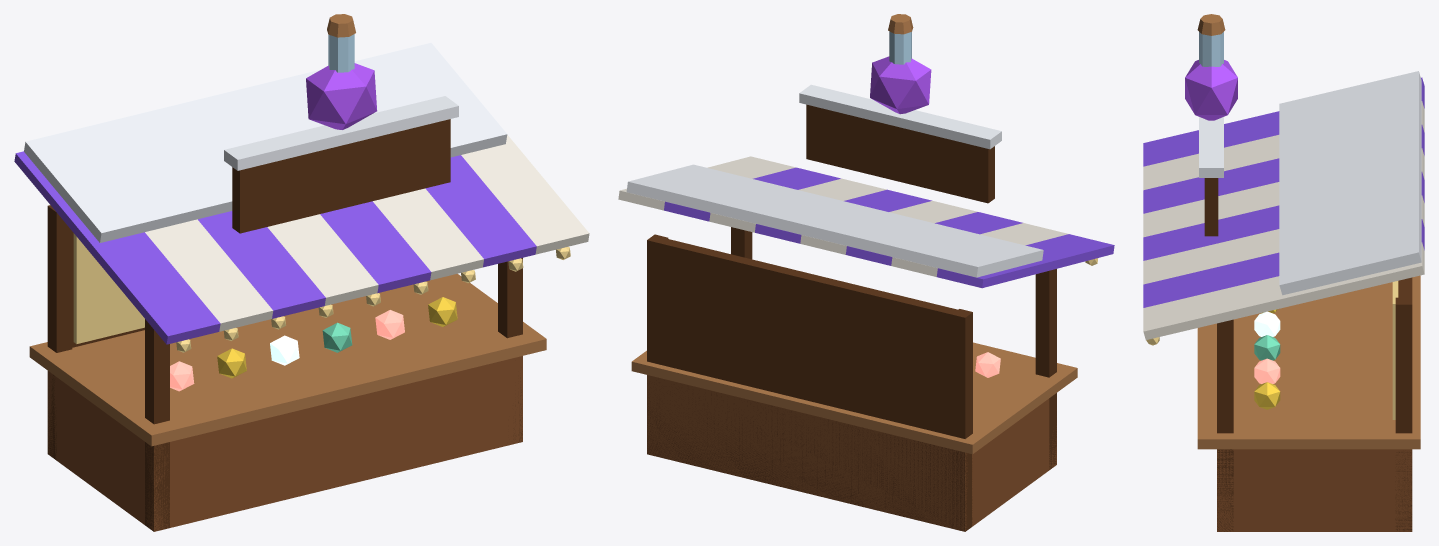
Rendered from StallPotion.fbx.
3 renders of one model, left to right at view 1: azimuth 30°, elevation 25°; view 2: azimuth 150°, elevation 25°; view 3: azimuth 270°, elevation 25°, orthographic. The views are drawn at different scales.
Parts seen in each view (by area): view 1: StallPotion_Wood, StallPotion_Snow, StallPotion_WoodLight, StallPotion_Purple, StallPotion_WoodDark, StallPotion_Cream, StallPotion_GlowWarm, StallPotion_Potion, StallPotion_Gold, StallPotion_GlowRed, StallPotion_Glass, StallPotion_GlowBlue (+1 smaller); view 2: StallPotion_WoodDark, StallPotion_Wood, StallPotion_Snow, StallPotion_WoodLight, StallPotion_Purple, StallPotion_Cream, StallPotion_Potion, StallPotion_Glass; view 3: StallPotion_Snow, StallPotion_WoodLight, StallPotion_Wood, StallPotion_Cream, StallPotion_Purple, StallPotion_WoodDark, StallPotion_Potion, StallPotion_Glass, StallPotion_GlowWarm, StallPotion_Gold, StallPotion_GlowBlue, StallPotion_GlowGreen (+1 smaller).
Part boxes in pixels (bbox=[...]): StallPotion_Wood: bbox=[47, 356, 522, 531]; StallPotion_Snow: bbox=[24, 43, 507, 242]; StallPotion_WoodLight: bbox=[29, 14, 546, 446]; StallPotion_Purple: bbox=[14, 151, 536, 344]; StallPotion_WoodDark: bbox=[47, 119, 522, 531]; StallPotion_Cream: bbox=[145, 135, 589, 331]; StallPotion_GlowWarm: bbox=[73, 233, 570, 352]; StallPotion_Potion: bbox=[306, 63, 377, 129]; StallPotion_Gold: bbox=[217, 297, 457, 378]; StallPotion_GlowRed: bbox=[170, 310, 404, 391]; StallPotion_Glass: bbox=[328, 34, 354, 72]; StallPotion_GlowBlue: bbox=[270, 335, 299, 365]; StallPotion_WoodDark: bbox=[647, 104, 1056, 531]; StallPotion_Wood: bbox=[647, 375, 1056, 531]; StallPotion_Snow: bbox=[626, 84, 1043, 277]; StallPotion_WoodLight: bbox=[631, 14, 1077, 454]; StallPotion_Purple: bbox=[664, 167, 1114, 288]; StallPotion_Cream: bbox=[618, 156, 1068, 276]; StallPotion_Potion: bbox=[870, 56, 931, 114]; StallPotion_Glass: bbox=[889, 31, 911, 64]; StallPotion_Snow: bbox=[1199, 71, 1421, 295]; StallPotion_WoodLight: bbox=[1197, 14, 1420, 449]; StallPotion_Wood: bbox=[1217, 449, 1412, 531]; StallPotion_Cream: bbox=[1143, 101, 1424, 339]; StallPotion_Purple: bbox=[1143, 77, 1424, 307]; StallPotion_WoodDark: bbox=[1204, 178, 1412, 531]; StallPotion_Potion: bbox=[1185, 60, 1237, 120]; StallPotion_Glass: bbox=[1199, 32, 1223, 66]; StallPotion_GlowWarm: bbox=[1146, 281, 1398, 419]; StallPotion_Gold: bbox=[1254, 309, 1280, 409]; StallPotion_GlowBlue: bbox=[1254, 311, 1280, 336]; StallPotion_GlowGreen: bbox=[1254, 335, 1280, 360].
Size of the model in its own units: 1600 by 1705 by 1009.
